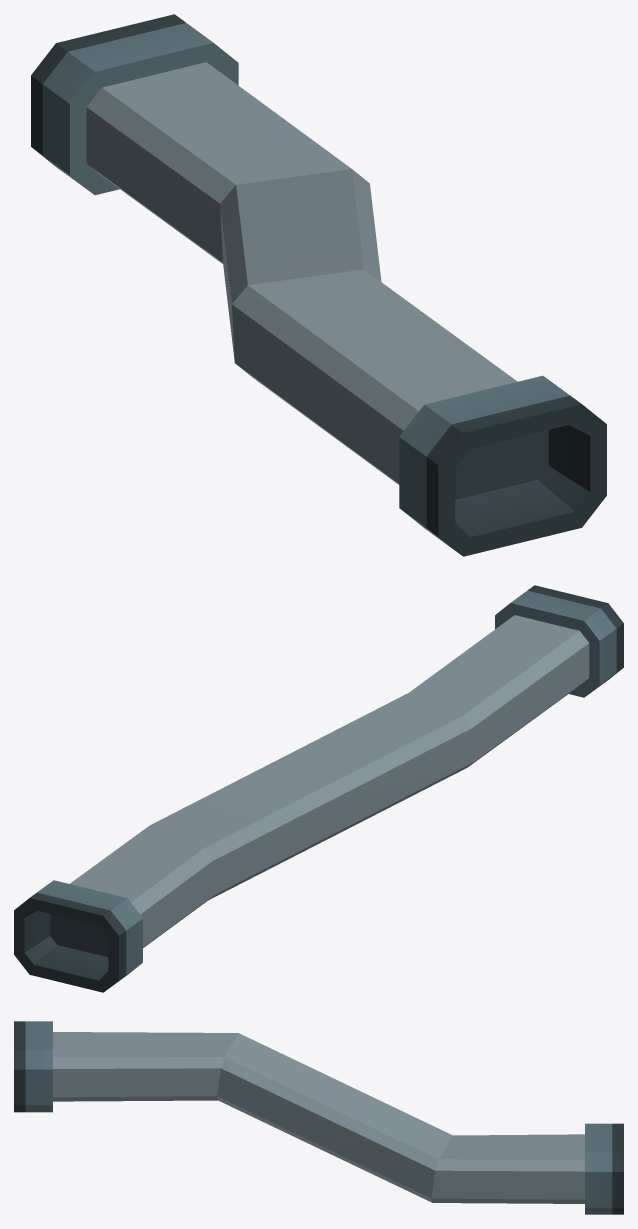
File: Vent_tube_003.fbx
The picture shows the model from 3 angles, top to bottom: view 1: azimuth 30°, elevation 25°; view 2: azimuth 150°, elevation 25°; view 3: azimuth 270°, elevation 25°; orthographic projection. The views are drawn at different scales.
Parts seen in each view (by area): view 1: Vent_tube_003; view 2: Vent_tube_003; view 3: Vent_tube_003.
Part boxes in pixels (x1,y1,x2,y2): Vent_tube_003: [31, 14, 606, 556]; Vent_tube_003: [14, 585, 623, 992]; Vent_tube_003: [14, 1021, 623, 1214].
Size of the model in its own units: 110 by 313 by 65.
